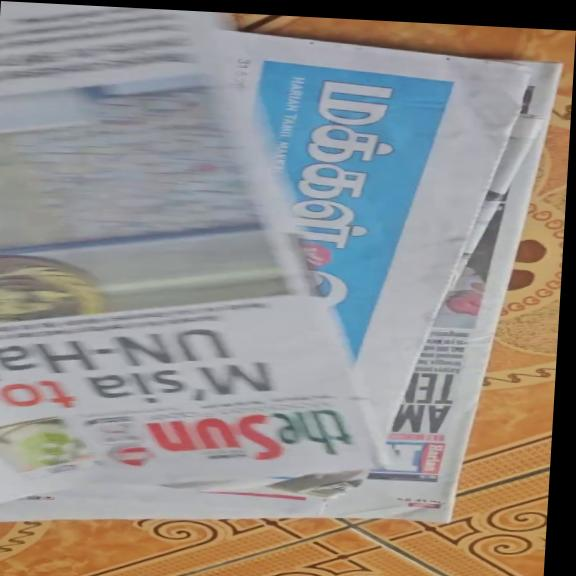Kertas: (0, 39, 482, 523)
